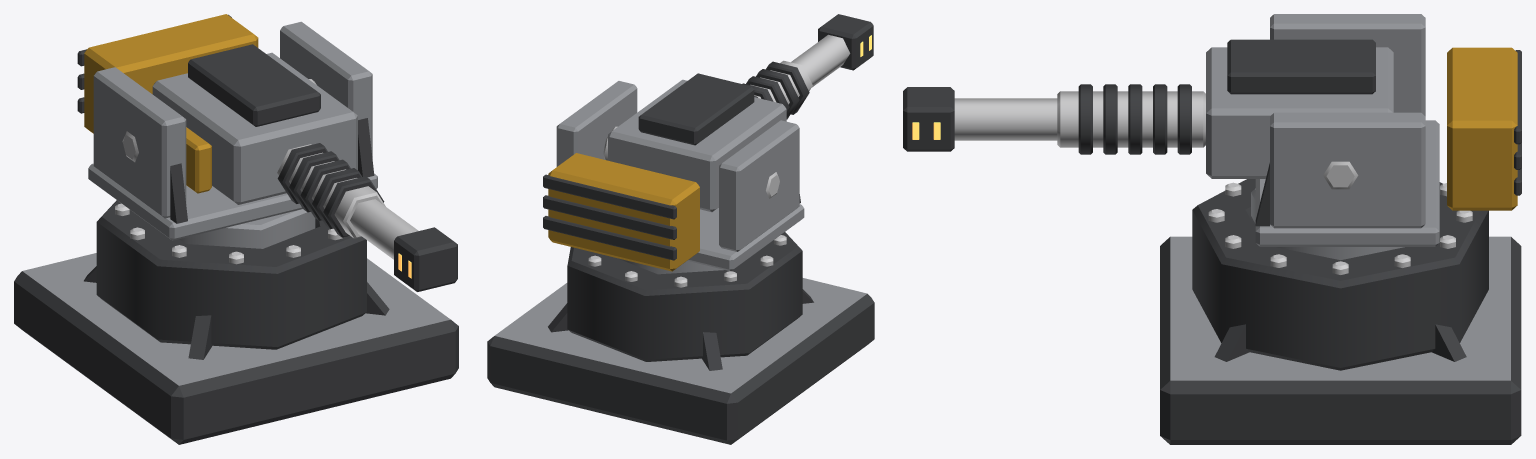
The model's file is R4W_Basic_LOD1.fbx.
3 views of the same model, side by side, from view 1: azimuth 30°, elevation 25°; view 2: azimuth 150°, elevation 25°; view 3: azimuth 270°, elevation 25° (orthographic). The views are drawn at different scales.
Visible parts, largest first — view 1: R4W_Basic_LOD1; view 2: R4W_Basic_LOD1; view 3: R4W_Basic_LOD1.
Boxes of the visible parts, <box> form: R4W_Basic_LOD1: <box>14,14,458,444</box>; R4W_Basic_LOD1: <box>487,14,874,444</box>; R4W_Basic_LOD1: <box>903,14,1521,444</box>.
Size of the model in its own units: 0.51 by 0.494 by 0.874.
